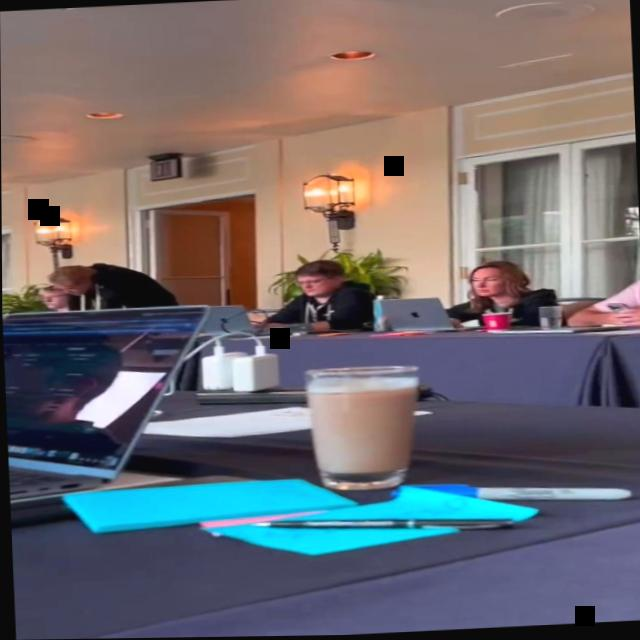NO-Mask: (473, 270, 502, 297), (297, 276, 327, 297), (40, 293, 61, 309), (58, 286, 81, 296)
